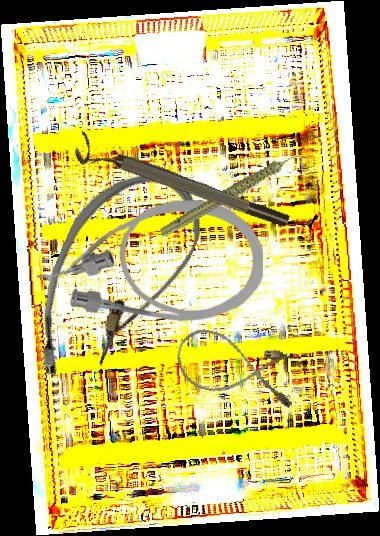Cannula: (14, 151, 216, 408), (35, 197, 265, 323), (169, 323, 305, 413)
Fixation Ring: (71, 131, 292, 241)
Handpiece: (149, 150, 317, 240)
